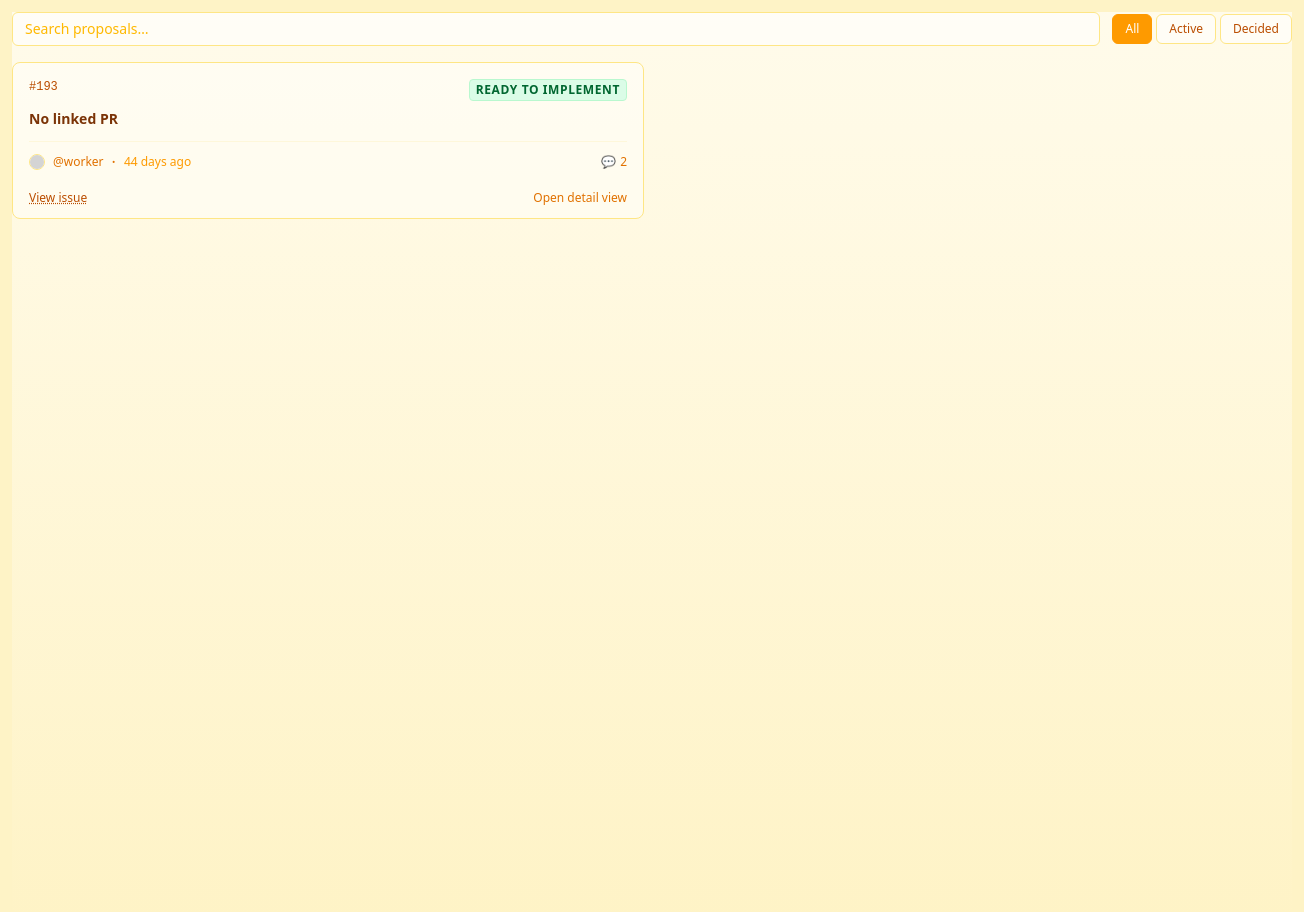
Test: ProposalList › shows fallback text when no implementing PR is linked
This screenshot has width=1304, height=912.
Click the button "#193": [548, 90] box left=13, top=63, right=643, bottom=190
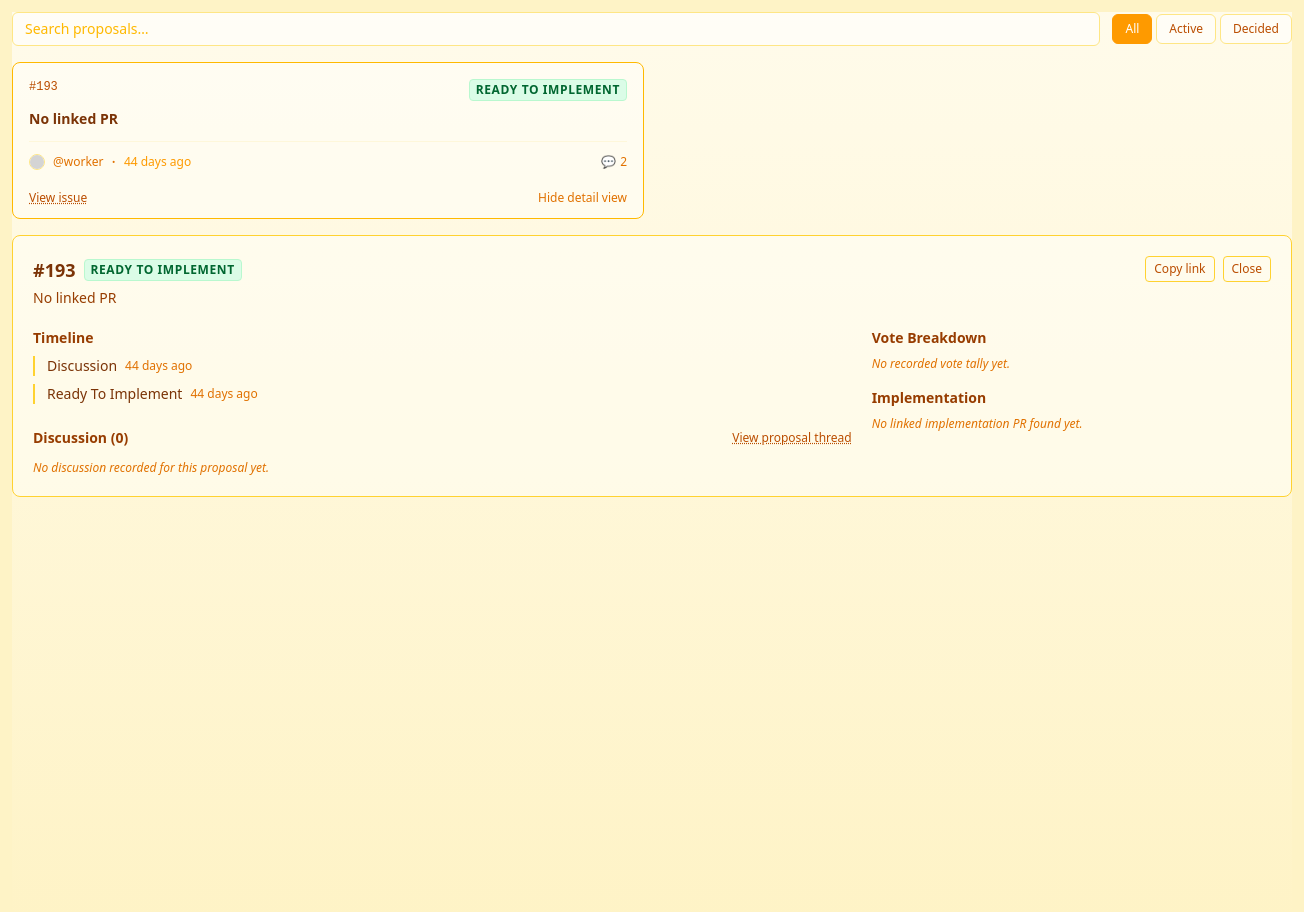
Check: the text "No linked implementation PR found yet." is shown, box left=872, top=415, right=1083, bottom=432
